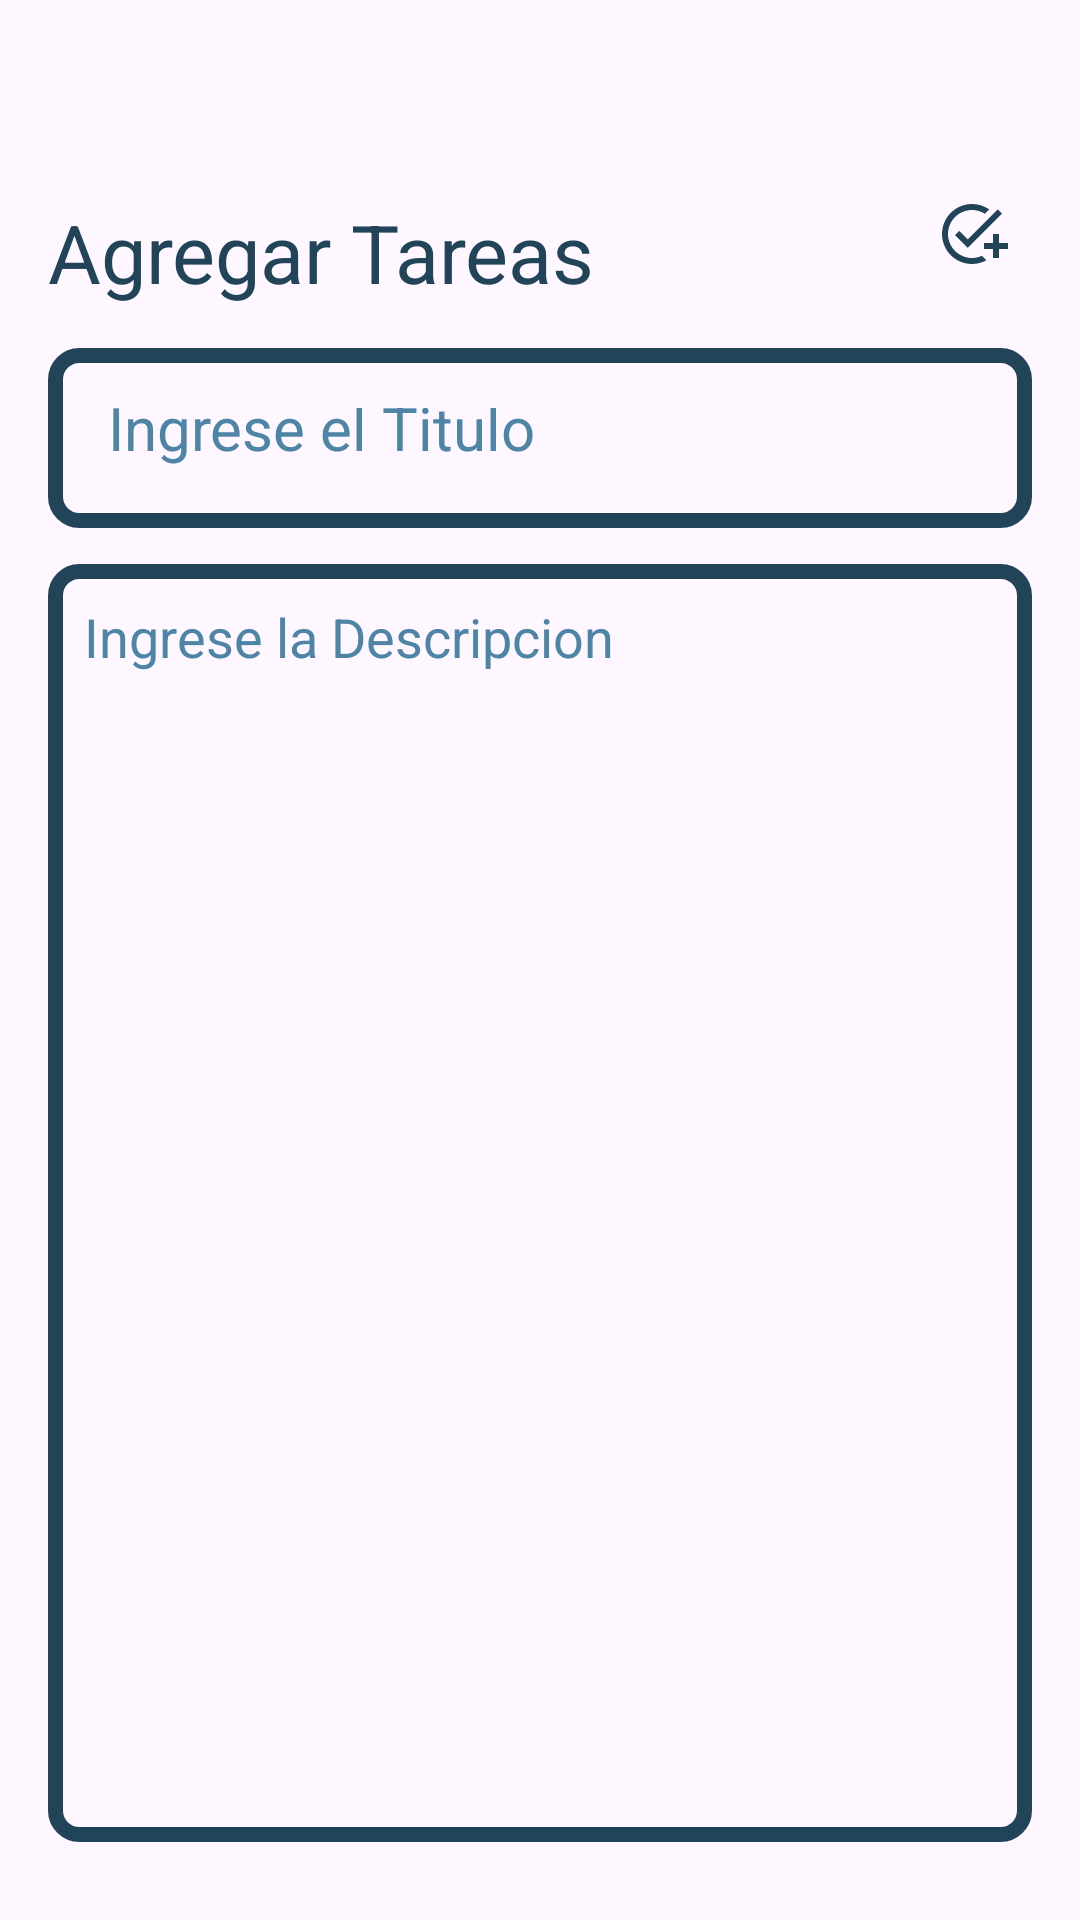

Screen size 1080 x 1920. Icon name, then its box in pixels as (x1, y1, x2, y2):
Imagen Tarea: (942, 204, 1008, 264)
